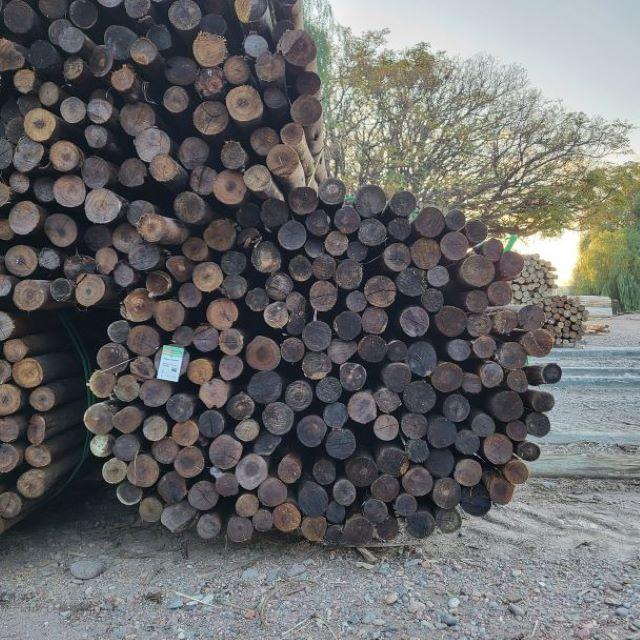package: (83, 179, 564, 546), (1, 1, 321, 307), (540, 294, 587, 348), (508, 253, 558, 303)
